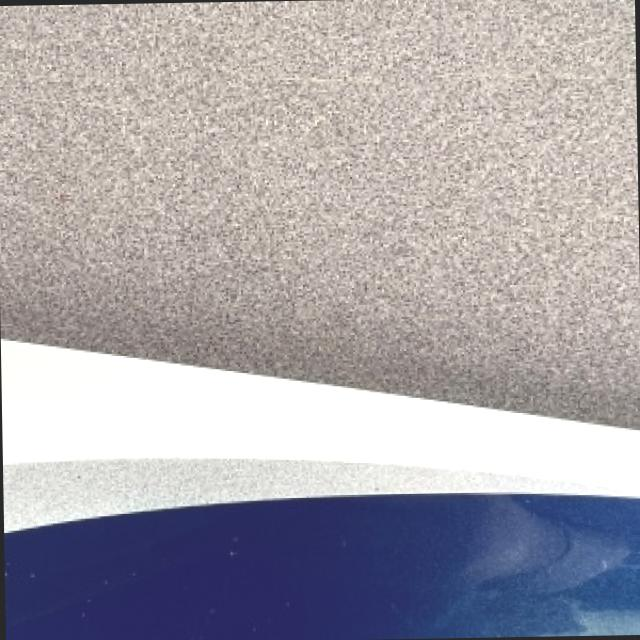healthy: (0, 338, 640, 640), (3, 411, 640, 640)
